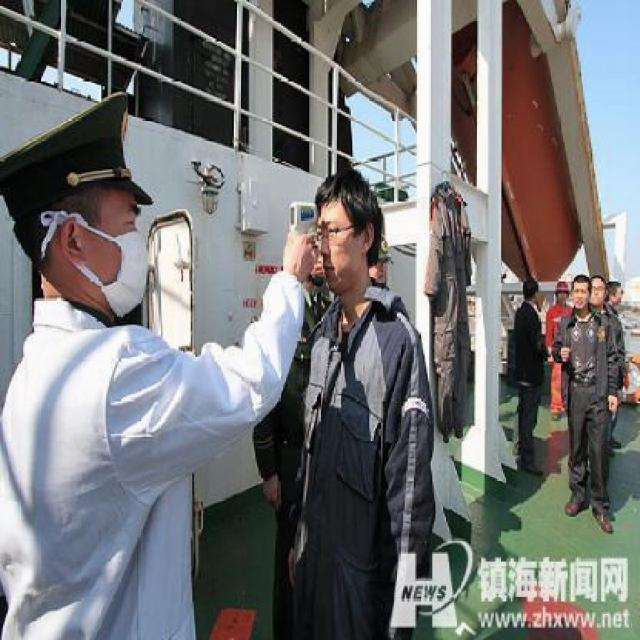face_mask: (68, 182, 168, 329)
face_nomask: (309, 205, 362, 297), (569, 282, 589, 310)
hand_noglove: (283, 228, 314, 282), (258, 474, 282, 508), (560, 345, 571, 360), (608, 394, 617, 411)
head_nohelmet: (7, 85, 147, 222), (303, 168, 388, 217), (572, 275, 590, 291)
person: (0, 104, 291, 640), (252, 146, 457, 640), (549, 268, 617, 532)
